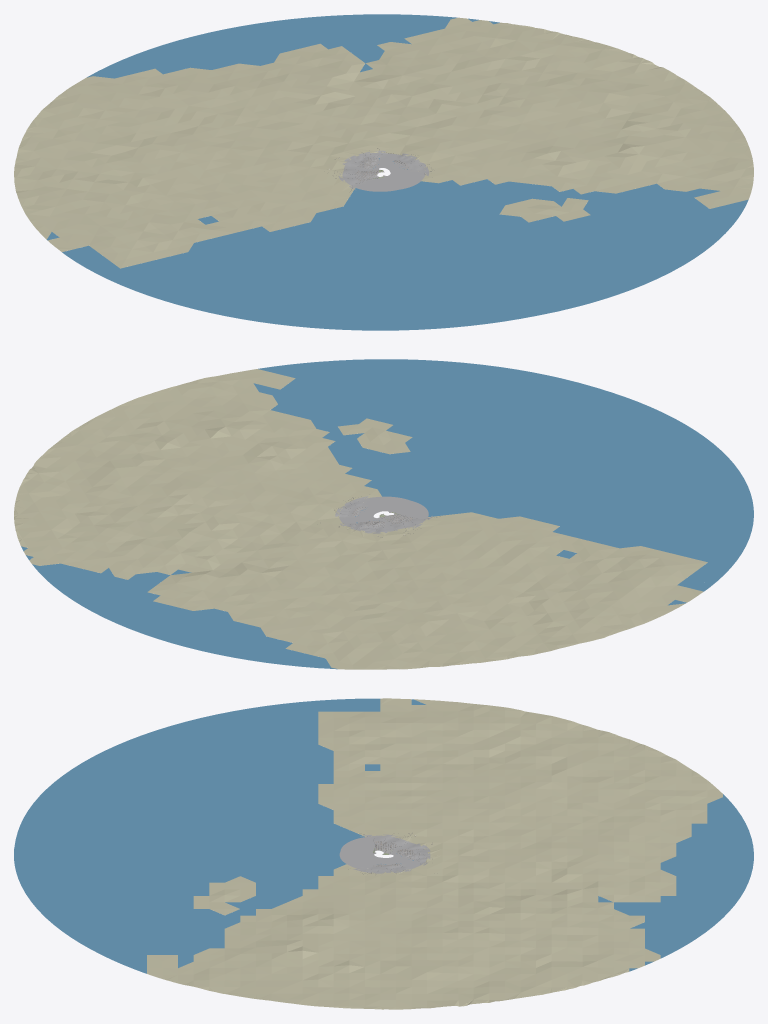
The model's file is backdrop.glb.
The picture shows the model from 3 angles, top to bottom: view 1: azimuth 30°, elevation 25°; view 2: azimuth 150°, elevation 25°; view 3: azimuth 270°, elevation 25°; orthographic projection.
Parts seen in each view (by area): view 1: backdrop_horizon_land, backdrop_horizon_water, backdrop_terrain_paved; view 2: backdrop_horizon_land, backdrop_horizon_water, backdrop_terrain_paved; view 3: backdrop_horizon_land, backdrop_horizon_water, backdrop_terrain_paved.
Part boxes in pixels (bbox=[...]): backdrop_horizon_land: bbox=[14, 17, 753, 268]; backdrop_horizon_water: bbox=[47, 14, 748, 330]; backdrop_terrain_paved: bbox=[339, 150, 429, 191]; backdrop_horizon_land: bbox=[14, 369, 707, 669]; backdrop_horizon_water: bbox=[21, 359, 753, 669]; backdrop_terrain_paved: bbox=[335, 496, 432, 533]; backdrop_horizon_land: bbox=[147, 698, 722, 1009]; backdrop_horizon_water: bbox=[14, 698, 753, 973]; backdrop_terrain_paved: bbox=[339, 834, 430, 873].
Size of the model in its own units: 71084 by 461 by 71316.
